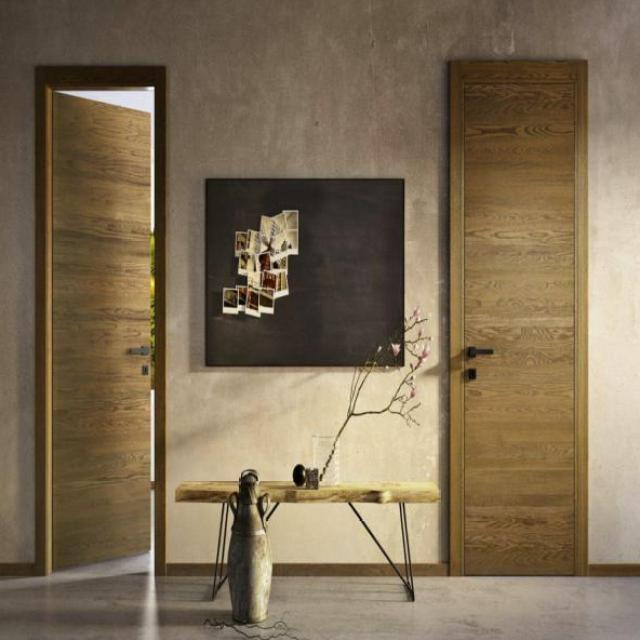door: (447, 58, 587, 576), (48, 87, 158, 568)
